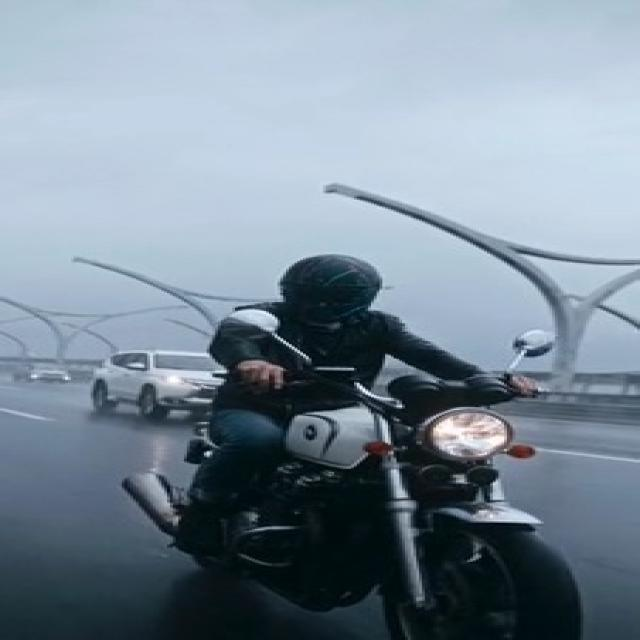Helmet_Wearer: (238, 245, 410, 322)
Jacket_Wearer: (212, 303, 522, 426)
Person: (180, 249, 512, 617)
